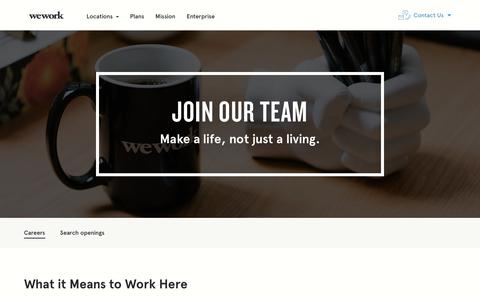wework: (28, 10, 65, 21)
